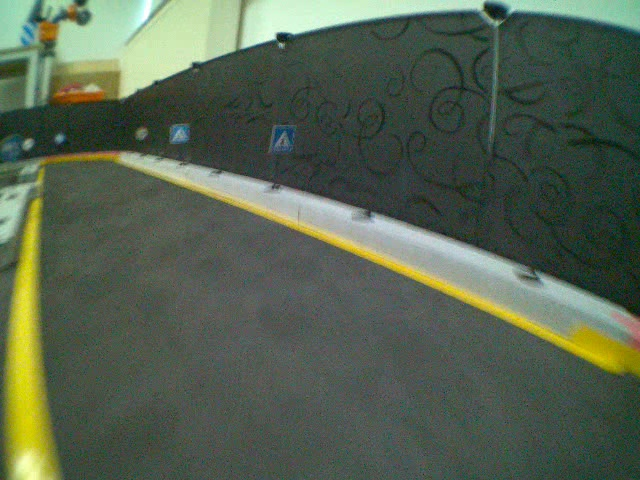crossing: (268, 120, 297, 155), (168, 121, 190, 145)
